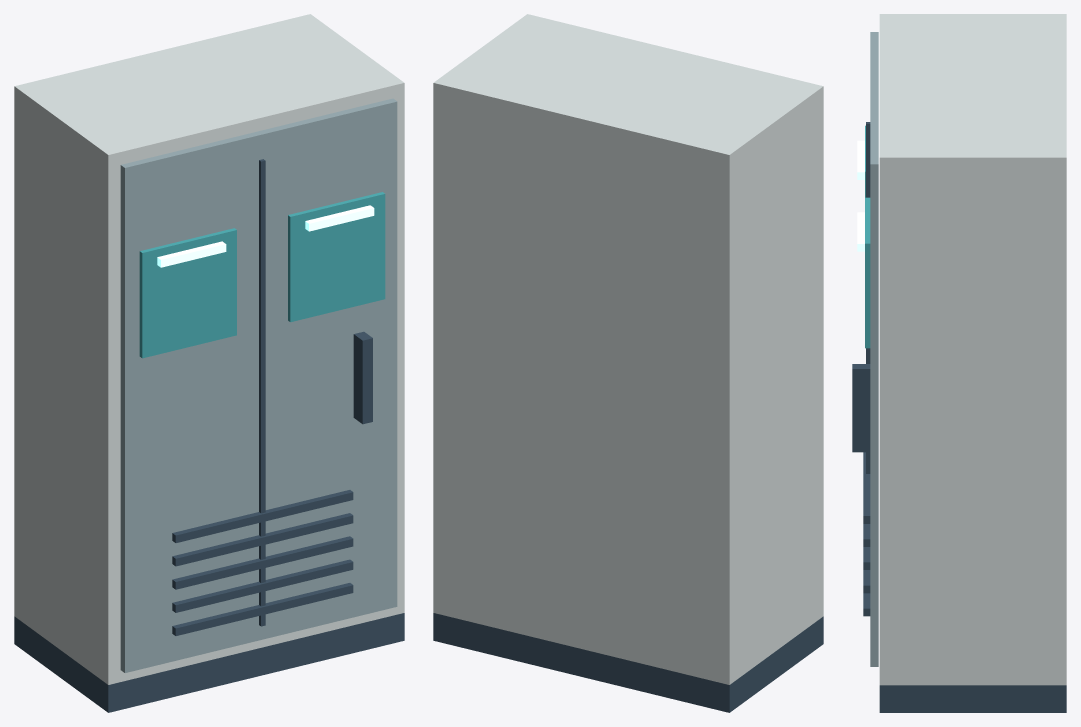
The model's file is orbital-field-station-sealed-sample-locker__149.glb.
3 views of the same model, side by side, from view 1: azimuth 30°, elevation 25°; view 2: azimuth 150°, elevation 25°; view 3: azimuth 270°, elevation 25° (orthographic).
Parts seen in each view (by area): view 1: metal, shell, dark, accent, light; view 2: shell, dark; view 3: shell, dark, metal, accent, light.
Boxes of the visible parts, bbox=[...] form: metal: bbox=[120, 98, 397, 672]; shell: bbox=[14, 14, 404, 684]; dark: bbox=[14, 159, 404, 712]; accent: bbox=[139, 192, 385, 358]; light: bbox=[157, 205, 374, 267]; shell: bbox=[433, 14, 823, 684]; dark: bbox=[433, 613, 823, 712]; shell: bbox=[879, 14, 1066, 685]; dark: bbox=[852, 122, 1066, 712]; metal: bbox=[870, 32, 878, 666]; accent: bbox=[865, 125, 870, 348]; light: bbox=[857, 140, 864, 251].
Size of the model in its own units: 1 by 1.8 by 0.63.
